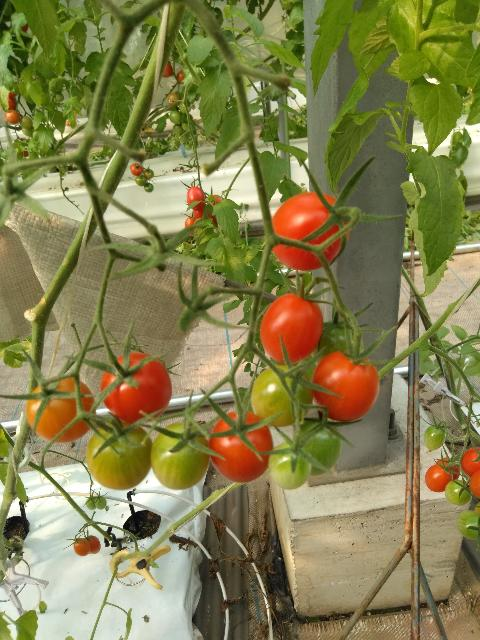l_fully_ripened: (269, 192, 349, 271), (100, 351, 172, 424), (311, 351, 380, 422), (207, 409, 273, 482), (260, 292, 323, 364), (425, 463, 453, 493), (436, 457, 461, 480), (461, 446, 480, 476), (187, 187, 206, 211), (85, 534, 101, 554)
l_green: (86, 417, 153, 490), (150, 420, 210, 491), (251, 365, 313, 427), (291, 417, 342, 476), (310, 318, 364, 366), (268, 441, 312, 490), (444, 479, 471, 506), (457, 510, 480, 540), (424, 425, 446, 451), (95, 496, 106, 510), (86, 496, 97, 510)
l_half_ripened: (25, 376, 96, 443), (469, 470, 480, 499), (74, 538, 89, 557)
